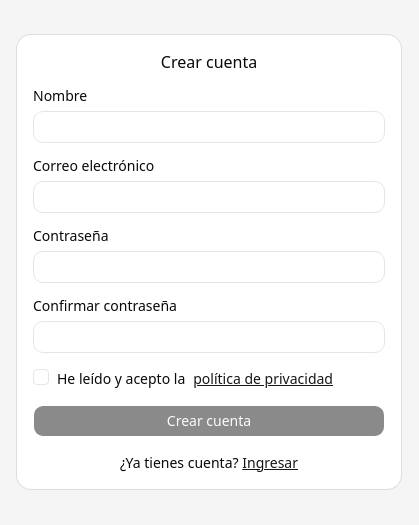
RegistroPage › muestra error de campo para correo duplicado
Type "Ana Torres" into the field labelled "Nombre" at (209, 127), box [33, 111, 385, 143]
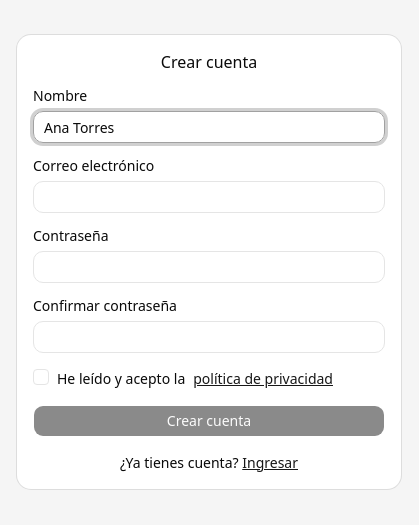
Type "duplicado@ejemplo.ec" into the field labelled "Correo electrónico" at (209, 197), box [33, 181, 385, 213]
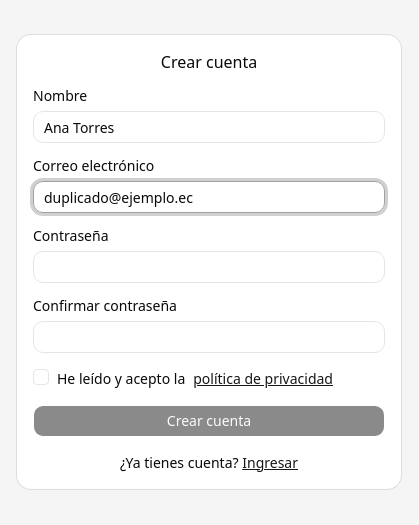
Type "abc12345" into the password field labelled "Contraseña" at (209, 267), box [33, 251, 385, 283]
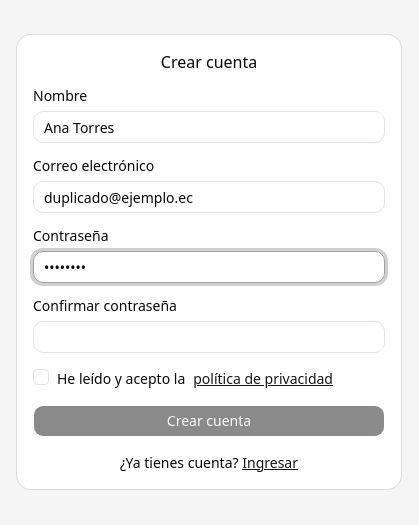
Type "abc12345" into the password field labelled "Confirmar contraseña" at (209, 337), box [33, 321, 385, 353]
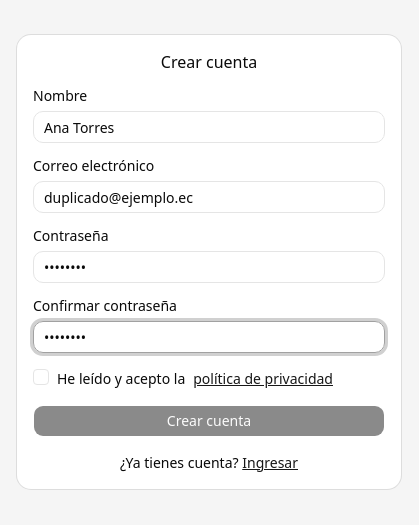
Click the checkbox named "acepto la" at (41, 377), box [33, 369, 49, 385]
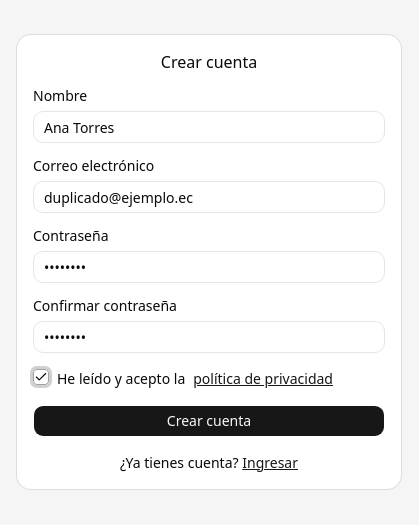
Click the button "Crear cuenta" at (209, 421), box [33, 405, 385, 437]
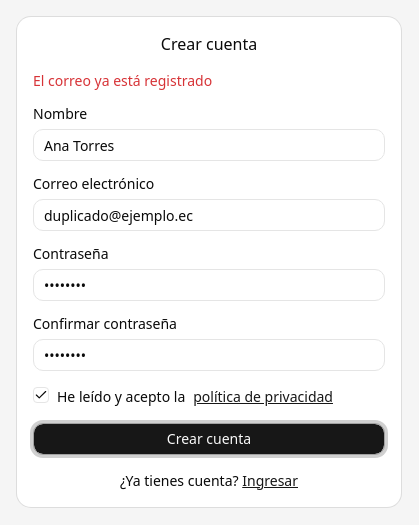
Expected: the text "El correo ya está registrado" is shown, [33, 71, 212, 90]
